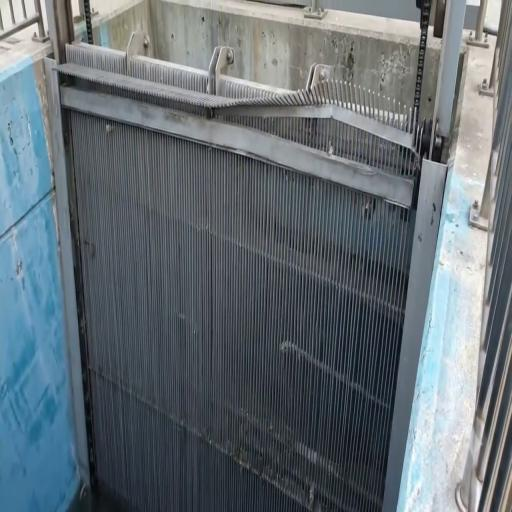rake_broken: (195, 79, 447, 163)
